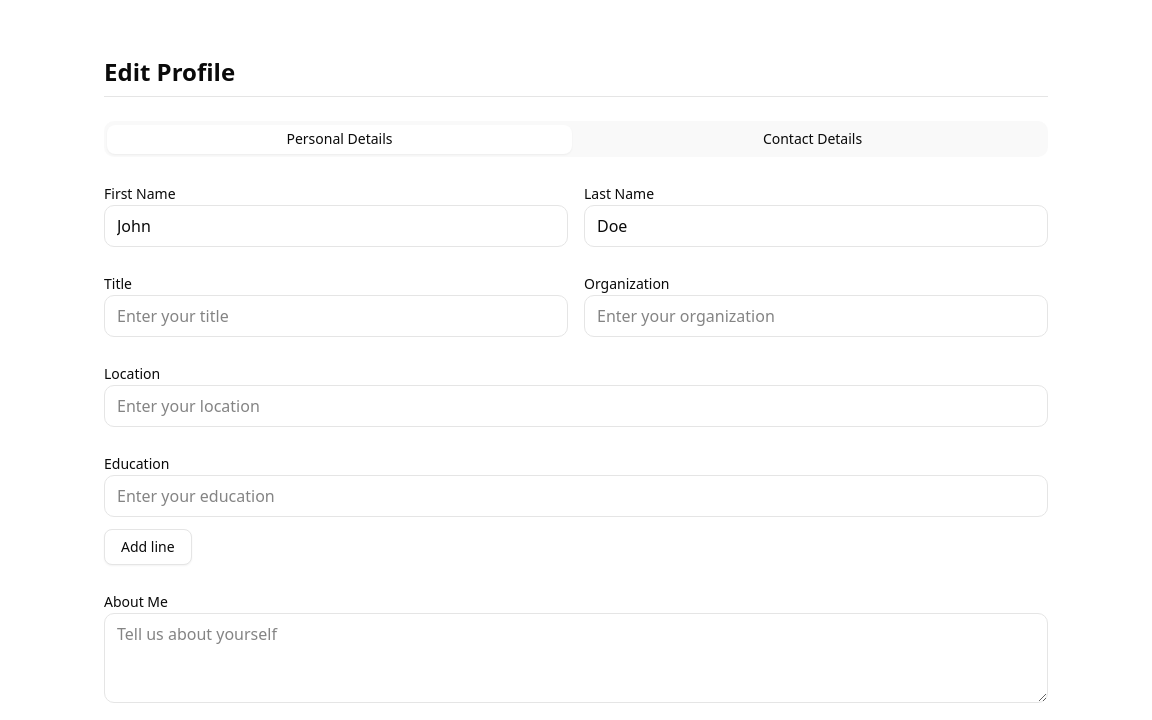
Test: EditUserProfile Component › Social Profiles with social_profiles Array › handles missing social_profiles array gracefully
This screenshot has width=1152, height=720.
Click the tab "Contact Details". click: [812, 139]
box: [580,124,1045,154]
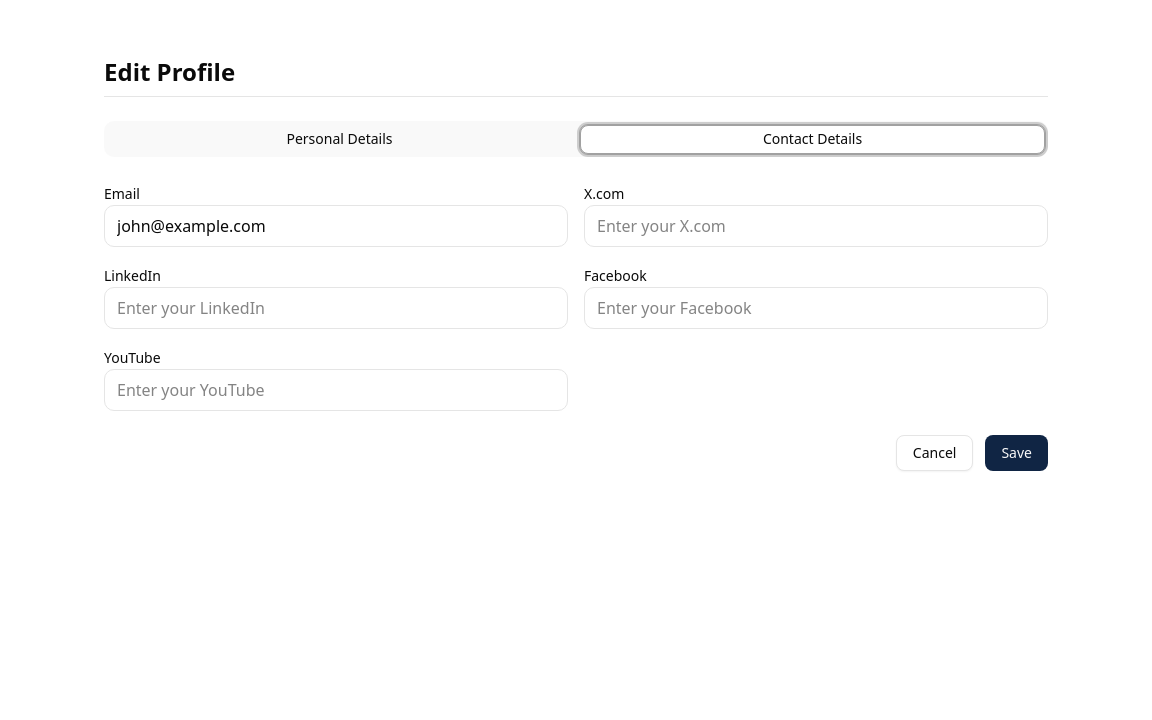
Expected: the field with placeholder "Enter your email" holds "john@example.com", [104,205,568,247]
Expected: the field with placeholder "Enter your X.com" is empty, [584,205,1048,247]
Expected: the field with placeholder "Enter your LinkedIn" is empty, [104,287,568,329]
